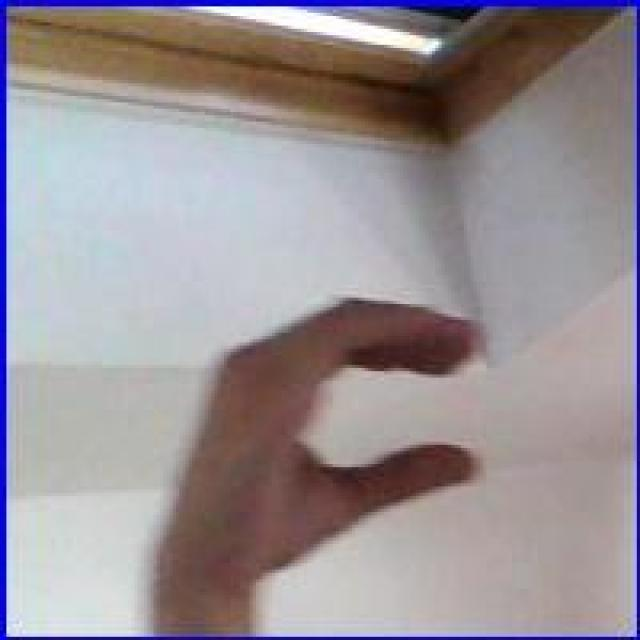C: (163, 288, 490, 598)
